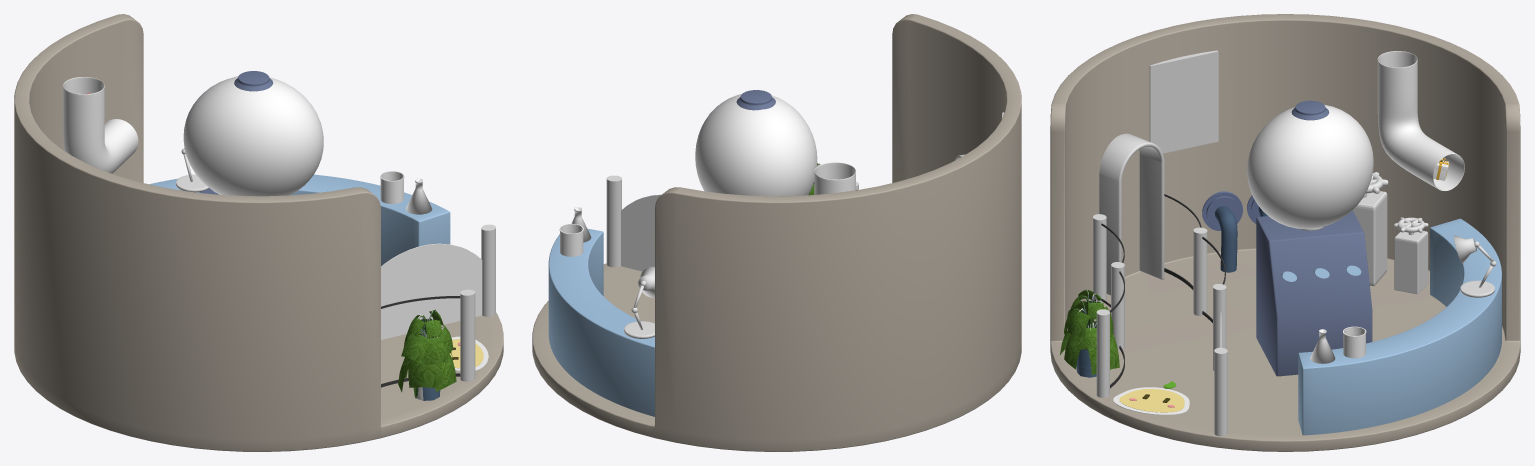
Rendered from product_interior.gltf.
3 renders of one model, left to right at view 1: azimuth 30°, elevation 25°; view 2: azimuth 150°, elevation 25°; view 3: azimuth 270°, elevation 25°, orthographic. The views are drawn at different scales.
Parts seen in each view (by area): view 1: 研发组小屋-墙, Icosphere, Circle.004, Cylinder.012, Circle.005, 盆栽, Cylinder.004, Cylinder.008, Circle.013, Cylinder, Plane.002, Circle.012; view 2: 研发组小屋-墙, Circle.005, Icosphere, Circle.004, Cylinder.008, Cylinder.012, Circle.013, Cylinder; view 3: 研发组小屋-墙, Circle.005, 抓球机, Icosphere, Cube.005, Circle.006, Cylinder.012, 盆栽, Cube, Cube.001, Plane.002, Cylinder.005 (+11 smaller).
Part boxes in pixels (x1,y1,x2,y2): 研发组小屋-墙: (14,14,503,451); Icosphere: (183,76,323,196); Circle.004: (381,243,482,339); Cylinder.012: (63,77,138,173); Circle.005: (149,174,450,266); 盆栽: (398,309,456,400); Cylinder.004: (460,289,475,381); Cylinder.008: (481,224,495,316); Circle.013: (380,171,404,203); Cylinder: (234,71,273,91); Plane.002: (449,336,488,371); Circle.012: (406,178,432,214); 研发组小屋-墙: (532,14,1021,451); Circle.005: (548,228,654,416); Icosphere: (695,94,817,196); Circle.004: (621,194,661,271); Cylinder.008: (606,175,621,267); Cylinder.012: (814,162,855,194); Circle.013: (559,223,583,256); Cylinder: (736,90,775,110); 研发组小屋-墙: (1050,14,1520,451); Circle.005: (1298,218,1501,435); 抓球机: (1256,210,1372,376); Icosphere: (1247,104,1373,229); Cube.005: (1149,50,1218,153); Circle.006: (1099,133,1164,295); Cylinder.012: (1377,51,1464,191); 盆栽: (1060,289,1119,377); Cube: (1352,191,1387,286); Cube.001: (1394,231,1428,294); Plane.002: (1113,381,1189,415); Cylinder.005: (1193,227,1207,316).
Size of the model in its own units: 4 by 2.34 by 4.
Materials: 24 (6 with a texture image).
